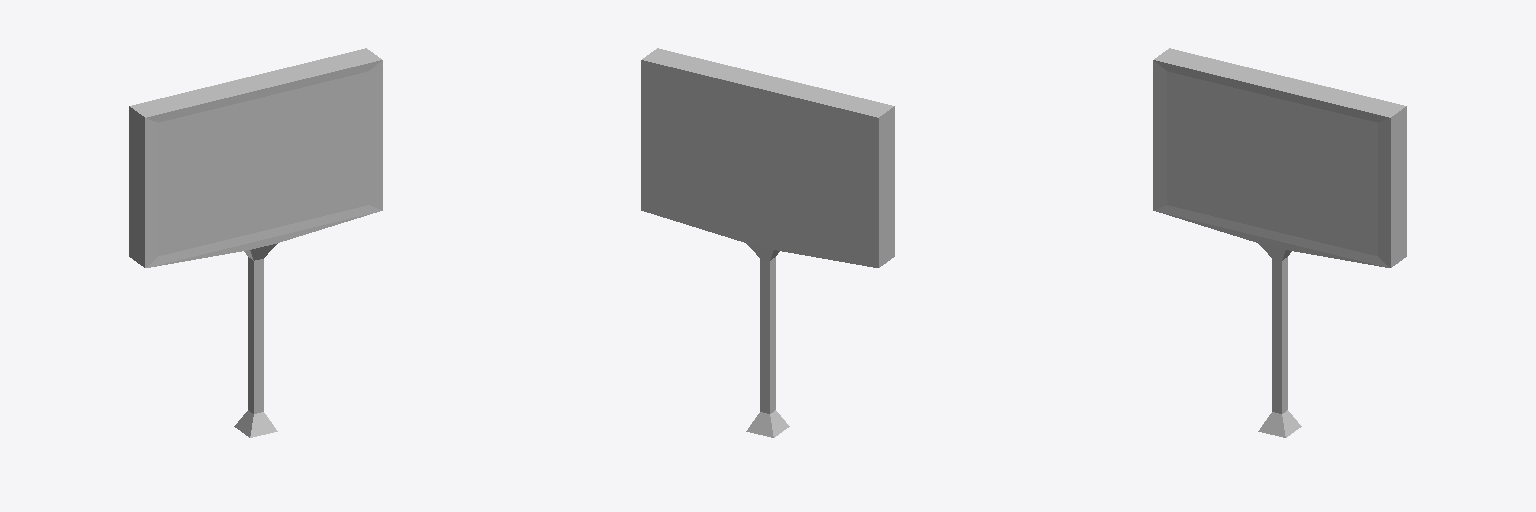
The model's file is outdoor.obj.
3 views of the same model, side by side, from view 1: azimuth 30°, elevation 25°; view 2: azimuth 150°, elevation 25°; view 3: azimuth 330°, elevation 25° (orthographic).
Parts seen in each view (by area): view 1: Cube; view 2: Cube; view 3: Cube.
Boxes of the visible parts, x1,y1,x2,y2 form: Cube: [129, 48, 382, 437]; Cube: [641, 48, 894, 437]; Cube: [1153, 48, 1406, 437].
Bounding box in the file's own units: 17.12 × 23.85 × 2.